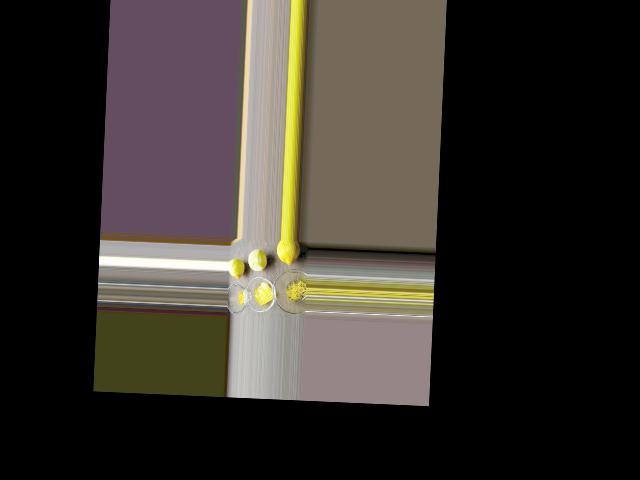lemon: (276, 241, 298, 268)
